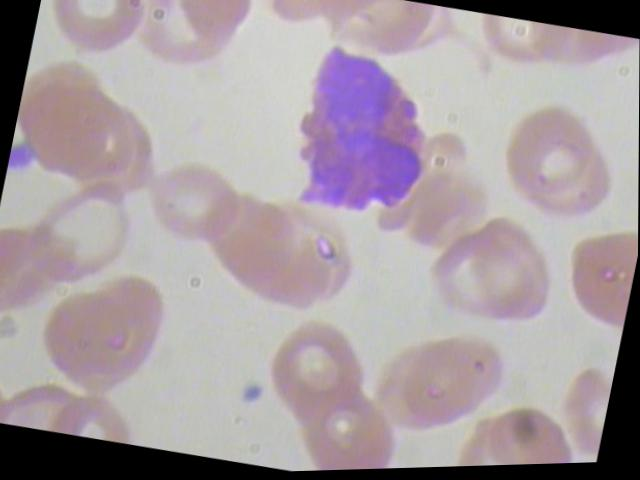Platelets: (229, 377, 272, 414), (7, 137, 42, 175)
Red Blood Cells: (25, 249, 181, 413), (22, 167, 145, 301), (255, 316, 379, 435), (420, 224, 547, 333), (391, 324, 508, 442), (494, 93, 610, 212), (288, 374, 410, 472), (551, 218, 638, 335), (142, 156, 241, 251), (474, 396, 591, 468), (35, 0, 159, 66), (468, 16, 568, 86), (169, 0, 264, 65), (556, 364, 614, 465)
White Blood Cells: (256, 30, 473, 242)
